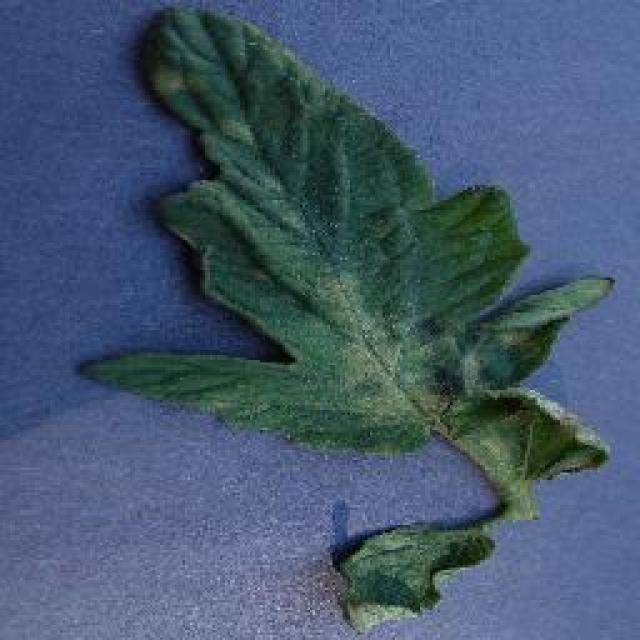Tomato mold leaf: (79, 6, 616, 622)
